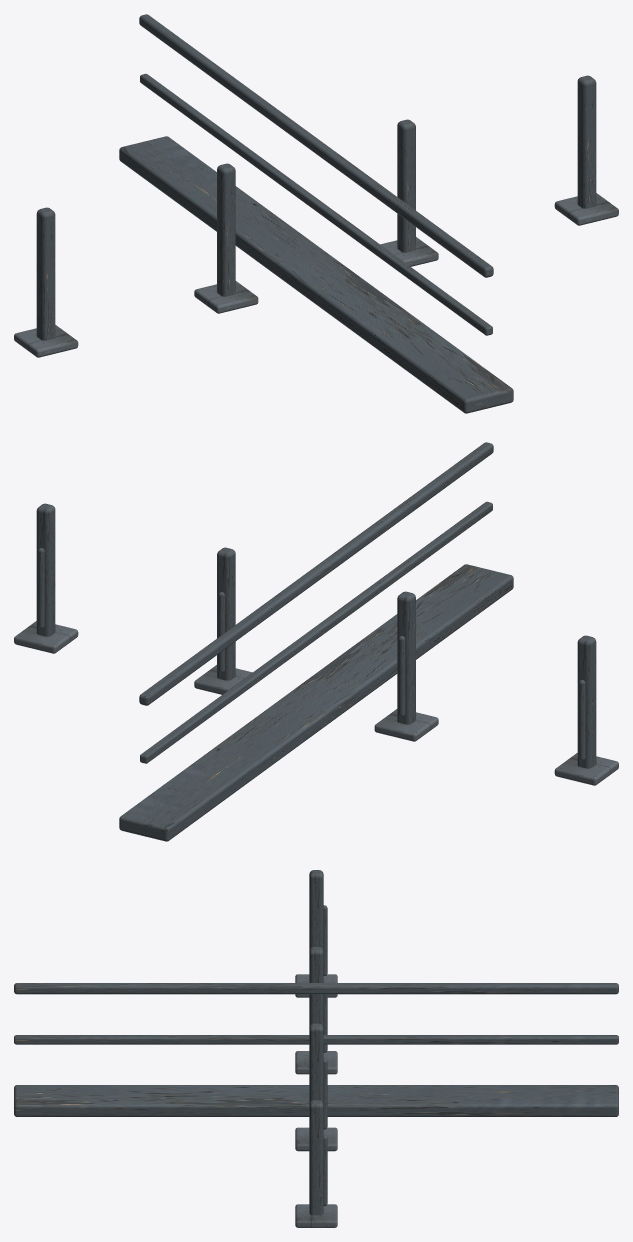
File: railing.glb
The picture shows the model from 3 angles, top to bottom: view 1: azimuth 30°, elevation 25°; view 2: azimuth 150°, elevation 25°; view 3: azimuth 270°, elevation 25°; orthographic projection. The views are drawn at different scales.
Parts seen in each view (by area): view 1: RailingBase, RailingTop, RailingMid, RailingPost0, RailingPost3, RailingPost1, RailingPost2, RailingFoot1, RailingFoot0, RailingFoot3, RailingFoot2; view 2: RailingBase, RailingTop, RailingMid, RailingPost3, RailingPost0, RailingPost1, RailingPost2, RailingFoot1, RailingFoot0, RailingFoot3, RailingFoot2, RailingBraceA0 (+2 smaller); view 3: RailingBase, RailingTop, RailingMid, RailingPost3, RailingPost2, RailingPost0, RailingPost1, RailingFoot3, RailingFoot2, RailingFoot1.
Part boxes in pixels (bbox=[...]): RailingBase: bbox=[119, 136, 513, 413]; RailingTop: bbox=[139, 14, 493, 277]; RailingMid: bbox=[140, 73, 492, 335]; RailingPost0: bbox=[36, 207, 55, 340]; RailingPost3: bbox=[577, 75, 596, 208]; RailingPost1: bbox=[217, 163, 235, 296]; RailingPost2: bbox=[397, 119, 415, 252]; RailingFoot1: bbox=[194, 281, 258, 313]; RailingFoot0: bbox=[14, 325, 78, 357]; RailingFoot3: bbox=[554, 193, 618, 225]; RailingFoot2: bbox=[380, 237, 438, 266]; RailingBase: bbox=[119, 564, 513, 841]; RailingTop: bbox=[139, 442, 493, 705]; RailingMid: bbox=[140, 501, 492, 763]; RailingPost3: bbox=[36, 503, 55, 636]; RailingPost0: bbox=[577, 635, 596, 768]; RailingPost1: bbox=[397, 591, 415, 724]; RailingPost2: bbox=[217, 547, 235, 680]; RailingFoot1: bbox=[374, 709, 438, 741]; RailingFoot0: bbox=[554, 753, 618, 785]; RailingFoot3: bbox=[14, 621, 78, 653]; RailingFoot2: bbox=[194, 665, 252, 694]; RailingBraceA0: bbox=[578, 680, 585, 760]; RailingBase: bbox=[14, 1085, 618, 1116]; RailingTop: bbox=[14, 983, 618, 994]; RailingMid: bbox=[14, 1035, 618, 1044]; RailingPost3: bbox=[309, 1100, 323, 1215]; RailingPost2: bbox=[309, 1023, 323, 1103]; RailingPost0: bbox=[309, 870, 323, 950]; RailingPost1: bbox=[309, 946, 323, 1026]; RailingFoot3: bbox=[295, 1204, 337, 1227]; RailingFoot2: bbox=[295, 1127, 337, 1151]; RailingFoot1: bbox=[295, 1051, 337, 1074].
Size of the model in its own units: 5.82 by 1.35 by 6.
2 materials, 2 textured.
